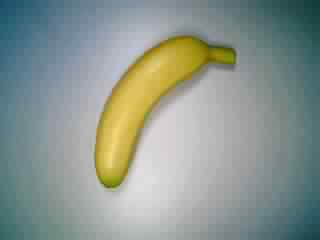banana: (92, 31, 241, 191)
